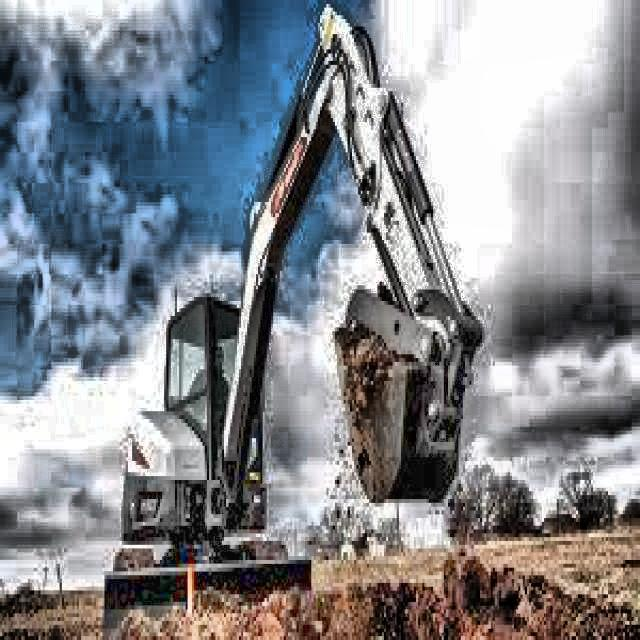bull_dozer/loader/grader: (100, 3, 484, 634)
person: (190, 348, 229, 411)
